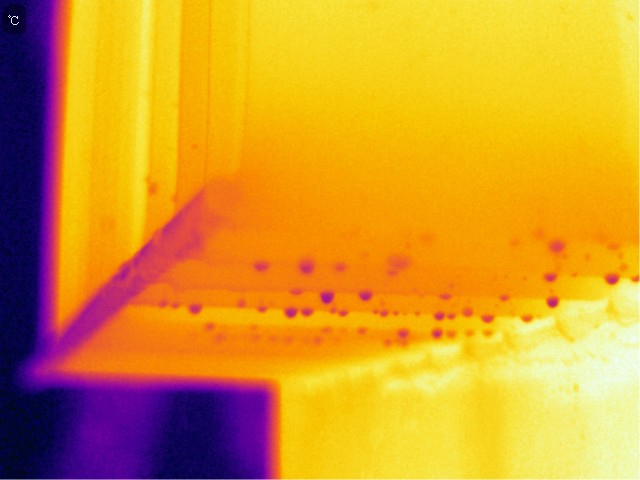Water: (292, 255, 319, 275), (544, 239, 575, 255), (491, 289, 518, 306), (249, 257, 273, 274), (279, 304, 301, 322), (601, 271, 623, 288), (317, 290, 340, 306), (299, 301, 317, 321), (370, 307, 398, 318), (185, 301, 204, 317), (436, 287, 456, 302), (544, 269, 562, 285), (355, 288, 374, 302), (516, 313, 540, 324), (547, 293, 564, 308), (432, 326, 450, 340), (255, 304, 273, 318), (480, 312, 499, 325), (428, 309, 447, 321), (395, 328, 419, 337), (463, 304, 475, 320)
